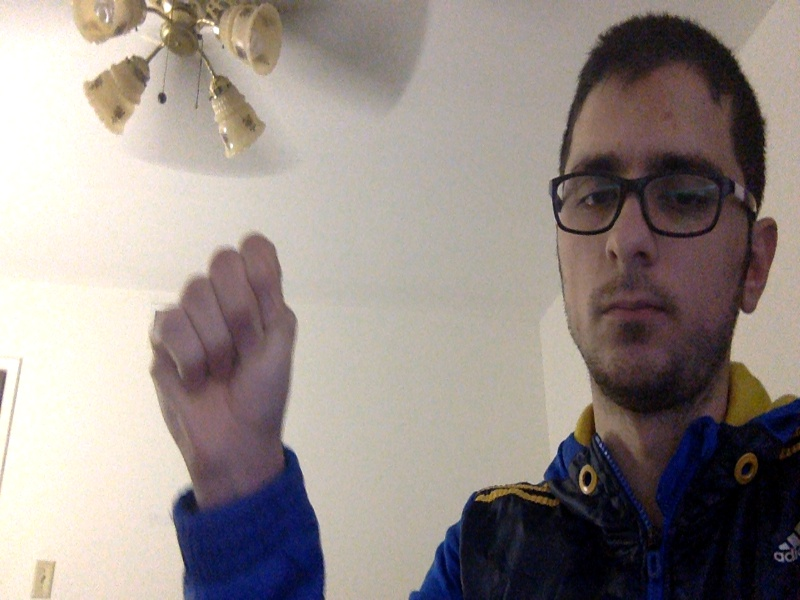0-hand: (150, 235, 298, 479)
